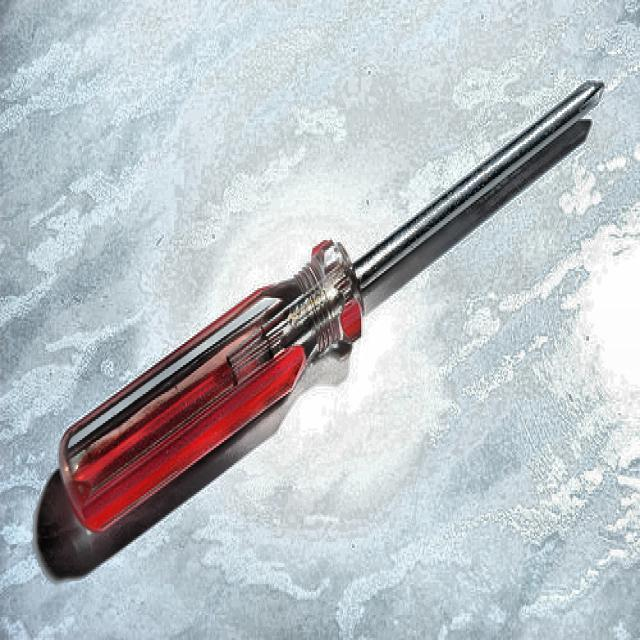screwdriver: (59, 78, 604, 530)
